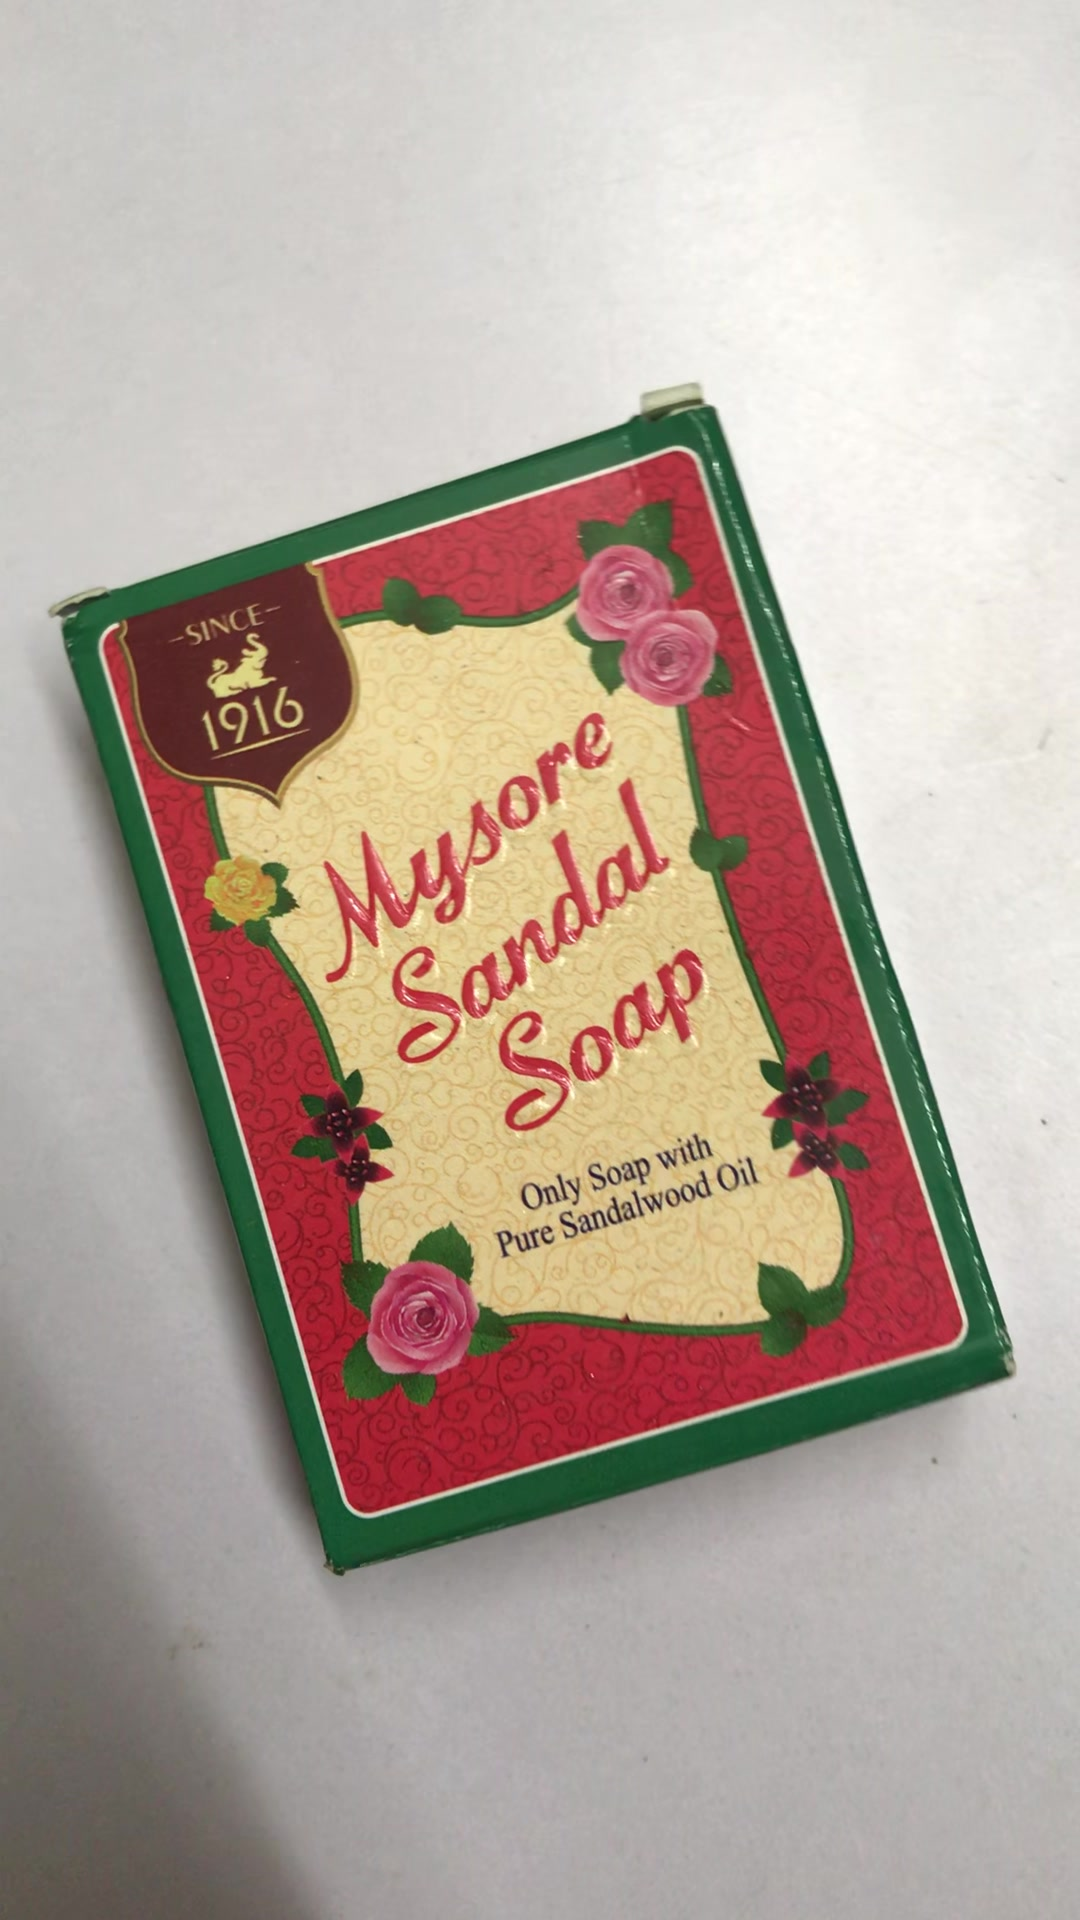mysore sandal soap: (57, 396, 1015, 1578)
